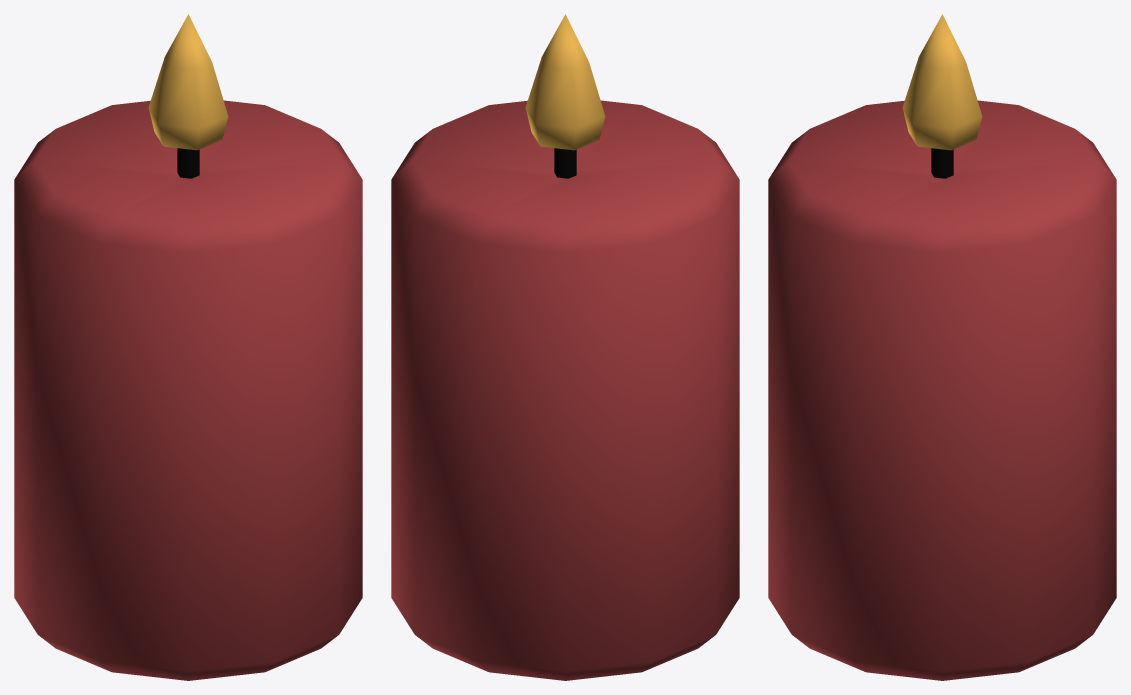
Rendered from candle_short.fbx.
The picture shows the model from 3 angles, left to right: view 1: azimuth 30°, elevation 25°; view 2: azimuth 150°, elevation 25°; view 3: azimuth 270°, elevation 25°; orthographic projection.
Visible parts, largest first — view 1: candle.short; view 2: candle.short; view 3: candle.short.
Part boxes in pixels (x1,y1,x2,y2): candle.short: (14,14,362,680); candle.short: (391,14,739,680); candle.short: (768,14,1116,680).
Size of the model in its own units: 14.56 by 27.79 by 14.56.
